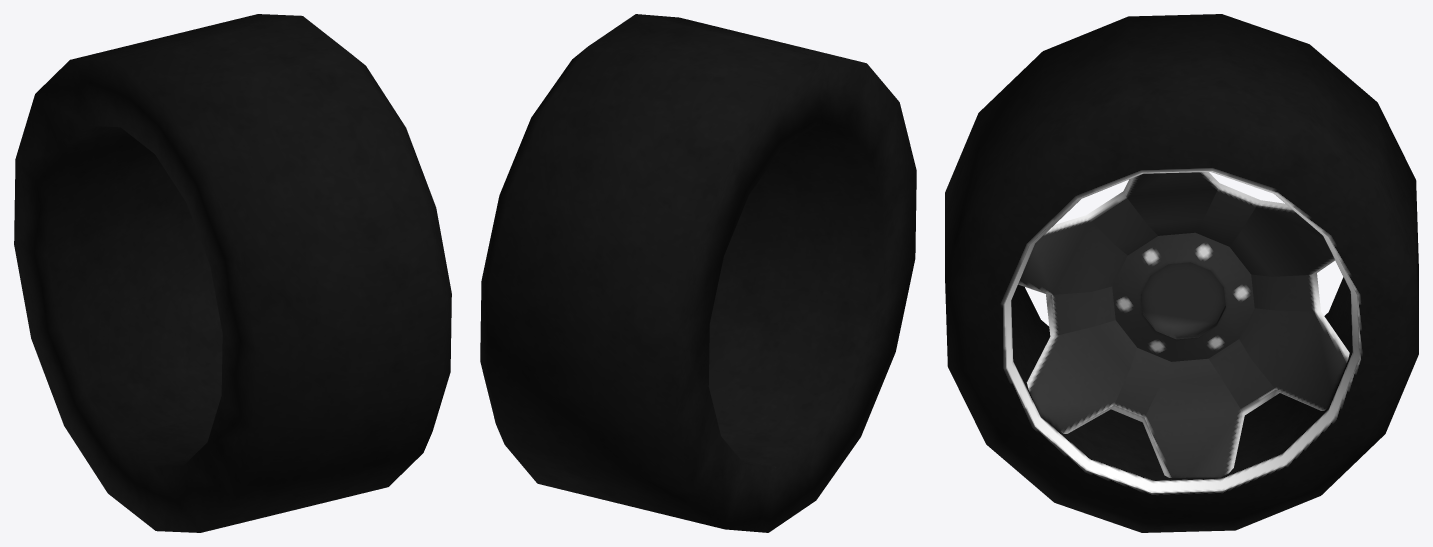
Rendered from Dodge_wheel1.fbx.
3 renders of one model, left to right at view 1: azimuth 30°, elevation 25°; view 2: azimuth 150°, elevation 25°; view 3: azimuth 270°, elevation 25°, orthographic. The views are drawn at different scales.
Parts seen in each view (by area): view 1: Base_FLDodge; view 2: Base_FLDodge; view 3: Base_FLDodge.
Boxes of the visible parts, x1,y1,x2,y2 form: Base_FLDodge: [14, 14, 451, 532]; Base_FLDodge: [480, 14, 916, 532]; Base_FLDodge: [945, 14, 1418, 532].
Bounding box in the file's own units: 45.68 × 88.54 × 88.54.
Materials: 1 (1 with a texture image).
